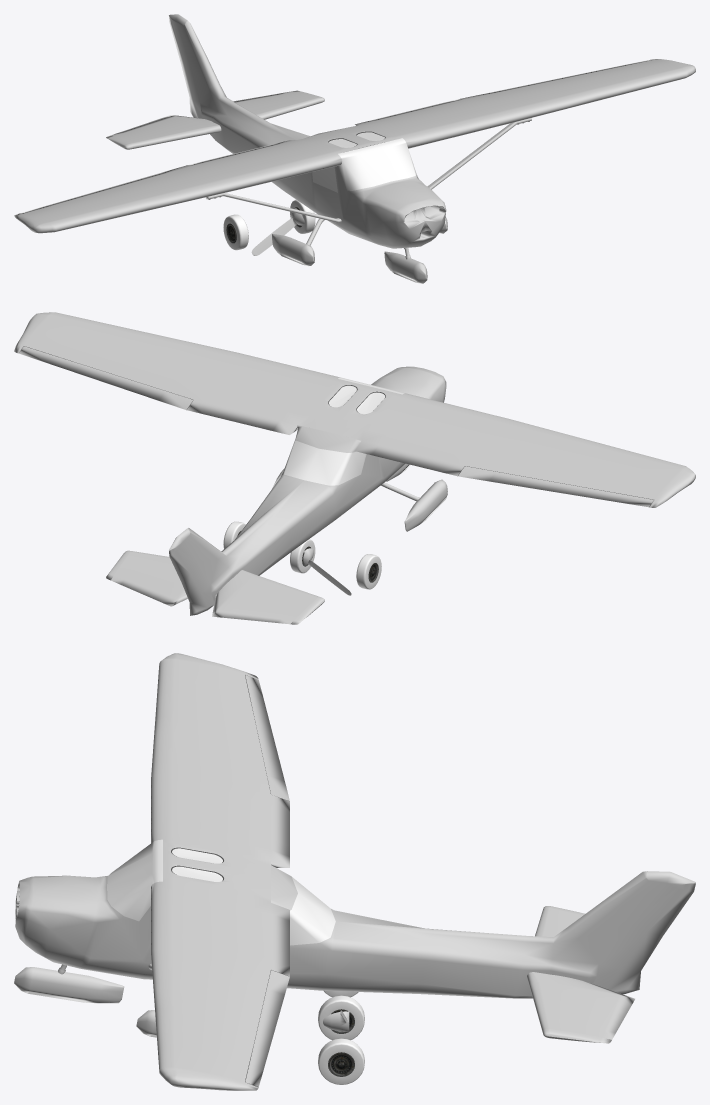
The model's file is sportflugzeug_cessna_01.fbx.
3 views of the same model, one above another, from view 1: azimuth 30°, elevation 25°; view 2: azimuth 150°, elevation 25°; view 3: azimuth 270°, elevation 25° (orthographic). The views are drawn at different scales.
Visible parts, largest first — view 1: body_main, reifen_hinten, rotor, reifen_vorne; view 2: body_main, reifen_hinten, reifen_vorne; view 3: body_main, reifen_hinten, reifen_vorne.
Part boxes in pixels (x1=…): body_main: x1=14, y1=14, x2=695, y2=283; reifen_hinten: x1=223, y1=214, x2=248, y2=250; rotor: x1=251, y1=207, x2=304, y2=255; reifen_vorne: x1=290, y1=199, x2=315, y2=233; body_main: x1=14, y1=312, x2=695, y2=624; reifen_hinten: x1=223, y1=521, x2=381, y2=589; reifen_vorne: x1=290, y1=539, x2=315, y2=573; body_main: x1=14, y1=653, x2=695, y2=1090; reifen_hinten: x1=318, y1=990, x2=364, y2=1084; reifen_vorne: x1=318, y1=995, x2=364, y2=1040.
Size of the model in its own units: 983 by 211 by 663.
